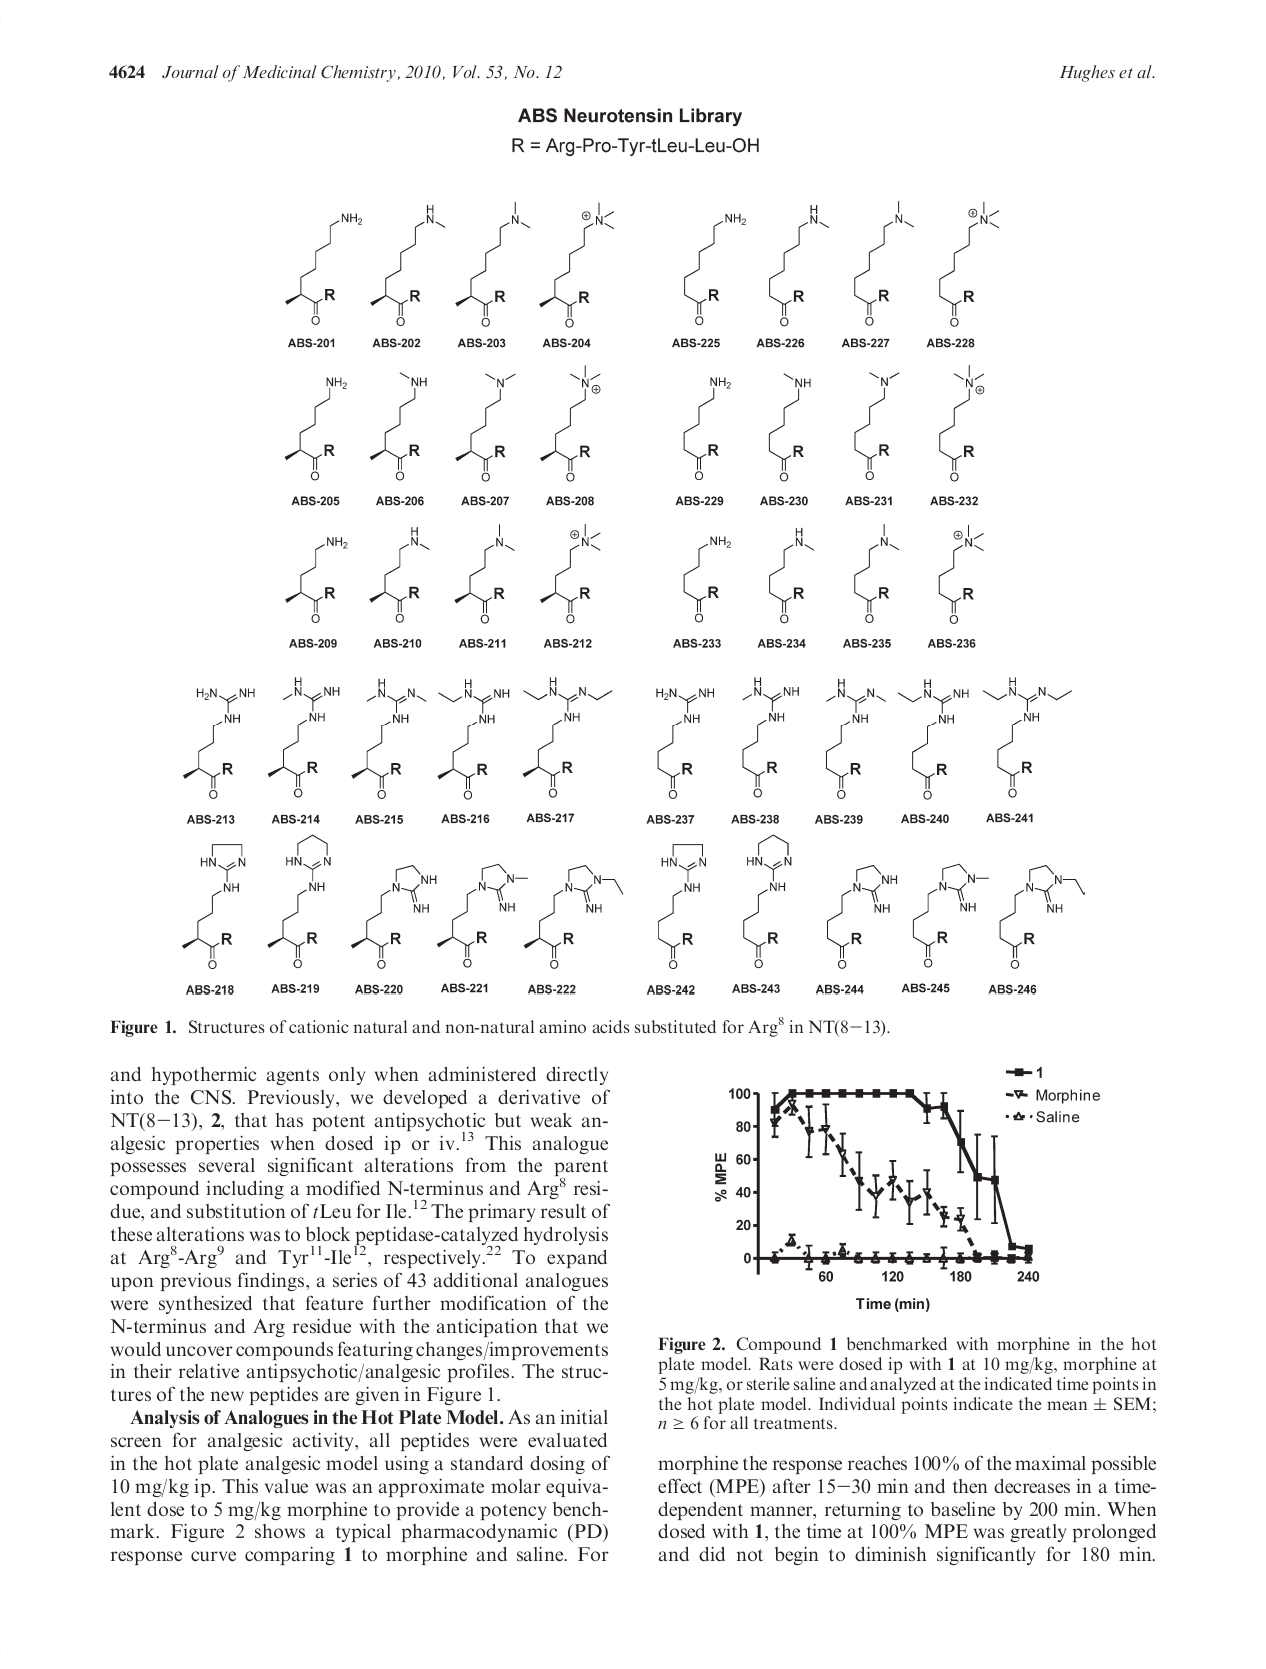exist_molecular: (977, 668, 1075, 801), (989, 860, 1093, 971), (523, 676, 617, 797), (523, 859, 622, 973), (449, 197, 533, 332), (368, 199, 451, 334), (281, 205, 368, 328), (676, 205, 759, 334), (435, 860, 535, 967), (537, 198, 618, 328), (348, 859, 439, 972), (428, 677, 511, 801), (348, 674, 428, 801), (181, 680, 265, 799), (266, 676, 344, 801), (821, 860, 904, 973), (895, 673, 969, 799), (906, 859, 991, 968), (266, 833, 332, 968), (934, 198, 1003, 328), (537, 360, 606, 488), (735, 830, 798, 971), (733, 669, 801, 798), (178, 842, 247, 968), (854, 198, 918, 332), (762, 202, 828, 328), (453, 364, 523, 483), (539, 517, 610, 630), (648, 684, 717, 801), (824, 672, 886, 802), (653, 840, 711, 969), (367, 366, 432, 481), (278, 531, 356, 625), (285, 368, 348, 481), (852, 364, 910, 488), (930, 360, 987, 484), (367, 524, 435, 626), (453, 523, 520, 622), (678, 375, 734, 485), (848, 519, 902, 629), (934, 523, 989, 626), (678, 527, 735, 626), (769, 371, 817, 483), (766, 524, 817, 625)
